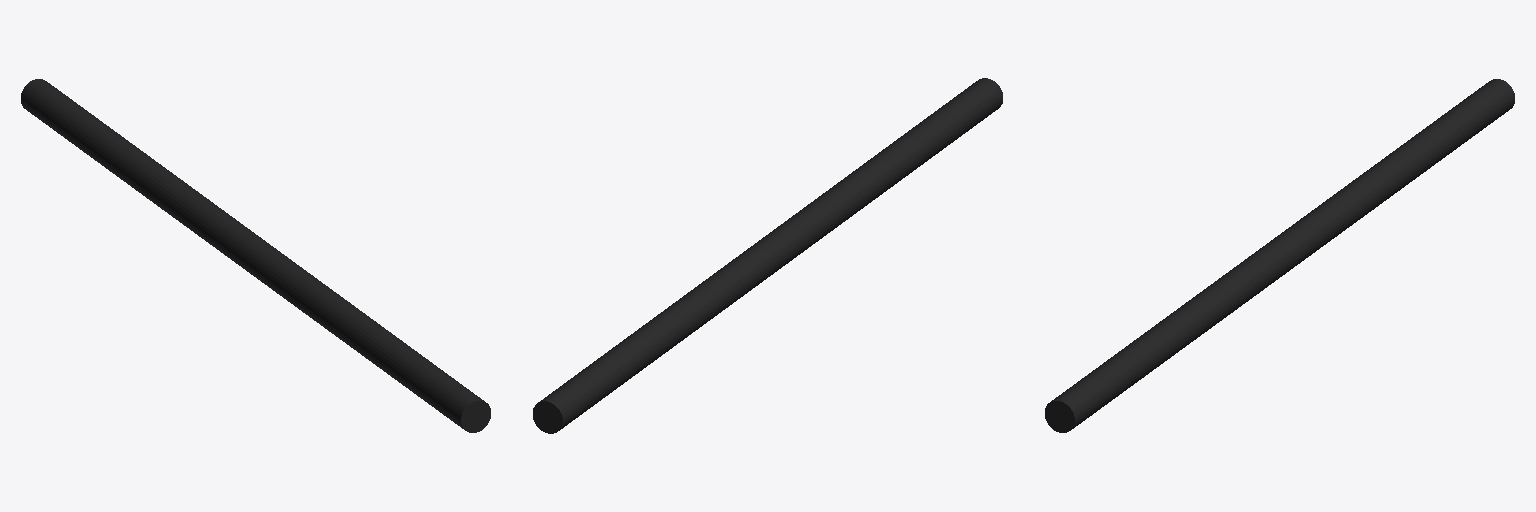
URDF robot description (model1):
<robot name="model1">
    <link name="axis">
    <visual>
      <origin xyz="0 0 0" rpy="1.57 0 0" />
      <geometry>
        <cylinder radius="0.01" length=".5" />
      </geometry>
      <material name="gray">
        <color rgba=".2 .2 .2 1" />
      </material>
    </visual>

    <collision>
      <origin xyz="0 0 0" rpy="1.57 0 0" />
      <geometry>
        <cylinder radius="0.01" length=".5" />
      </geometry>
      <contact_coefficients mu="0" kp="1000.0" kd="1.0"/>
    </collision>
  </link>

    <link name="base_link">
      <visual>
        <origin rpy="0.0 0 0" xyz="0 0 0"/>
        <geometry>
          <mesh filename="file://[local-path]/Robotics/workshop/src/model1/urdf/model1-base.stl"/>
        </geometry>
      </visual>
      <collision>
      <origin xyz="0 0 0.051"/>
      <geometry>
        <box size="0.18 0.2 0.07" />
      </geometry>
    </collision>
    <inertial>
    <mass value="0.773"/>
    <inertia ixx=".001" ixy="0.0" ixz="0.0" iyy=".001" iyz="0.0" izz=".002"/>
  </inertial>
    </link>
    
    <joint name="base_to_axis" type="fixed">
        <parent link="axis"/>
        <child link="base_link"/>
        <origin xyz="0 0 0" rpy="0 0 0" />
    </joint>
    
    <link name="br_wheel">
      <visual>
        <origin rpy="1.57075 0 0" xyz="0.000 0.000 0"/>
        <geometry>
          <mesh filename="file://[local-path]/Robotics/workshop/src/model1/urdf/wheel.stl"/>
        </geometry>
      </visual>
      <inertial>
    <mass value="0.002"/>
    <inertia 
        ixx="4e-8" ixy="0.0" ixz="0.0"
        iyy="4e-8" iyz="0.0"
        izz="8e-8"/>
</inertial>
    </link>
    <joint name="base_to_br" type="continuous">
    <parent link="base_link"/>
    <child link="br_wheel"/>
    <origin xyz=".052 .11 .033"/>
        <axis xyz="0 1 0"/>
  </joint>
  
  <link name="bl_wheel">
      <visual>
        <origin rpy="-1.57075 0 0" xyz="0.000 0.000 0"/>
        <geometry>
          <mesh filename="file://[local-path]/Robotics/workshop/src/model1/urdf/wheel.stl"/>
        </geometry>
      </visual>
      <inertial>
    <mass value="0.002"/>
    <inertia 
        ixx="4e-8" ixy="0.0" ixz="0.0"
        iyy="4e-8" iyz="0.0"
        izz="8e-8"/>
</inertial>
    </link>
    <joint name="base_to_bl" type="continuous">
    <parent link="base_link"/>
    <child link="bl_wheel"/>
    <origin xyz=".052 -0.11 .033"/>
        <axis xyz="0 1 0"/>
  </joint>
  
  <link name="fl_wheel">
      <visual>
        <origin rpy="-1.57075 0 0" xyz="0.000 0.000 0"/>
        <geometry>
          <mesh filename="file://[local-path]/Robotics/workshop/src/model1/urdf/wheel.stl"/>
        </geometry>
      </visual>
      <inertial>
    <mass value="0.002"/>
    <inertia 
        ixx="4e-8" ixy="0.0" ixz="0.0"
        iyy="4e-8" iyz="0.0"
        izz="8e-8"/>
</inertial>
    </link>
    <joint name="base_to_fl" type="continuous">
    <parent link="base_link"/>
    <child link="fl_wheel"/>
    <origin xyz="-0.06 -0.1 .033"/>
        <axis xyz="0 1 0"/>
  </joint>
  
  <link name="fr_wheel">
      <visual>
        <origin rpy="-1.57075 0 0" xyz="0.000 0.000 0"/>
        <geometry>
          <mesh filename="file://[local-path]/Robotics/workshop/src/model1/urdf/wheel.stl"/>
        </geometry>
      </visual>
      <inertial>
    <mass value="0.002"/>
    <inertia 
        ixx="4e-8" ixy="0.0" ixz="0.0"
        iyy="4e-8" iyz="0.0"
        izz="8e-8"/>
</inertial>
    </link>
    <joint name="base_to_fr" type="continuous">
    <parent link="base_link"/>
    <child link="fr_wheel"/>
    <origin xyz="-0.06 0.1 .033"/>
    <axis xyz="0 1 0"/>
  </joint>
</robot>

--- Facts derived from the render (not from the file) ---
Views: 3 orthographic renders of the robot side by side, from view 1: azimuth 30°, elevation 25°; view 2: azimuth 150°, elevation 25°; view 3: azimuth 330°, elevation 25°.
Model model1 with 6 links and 5 joints (4 continuous, 1 fixed), rooted at axis, posed all joints at 0.
Links seen in each view (by area): view 1: axis; view 2: axis; view 3: axis.
Boxes of the visible links, x1,y1,x2,y2 form: axis: [21, 79, 490, 432]; axis: [533, 78, 1002, 433]; axis: [1045, 79, 1514, 432].
Bounding box of the posed robot: 0.02 × 0.5 × 0.0204 m (x, y, z).
Geometry: only primitive shapes (box / cylinder / sphere) drawn; not drawn: 5 mesh visuals (reference in a form the renderer does not follow).